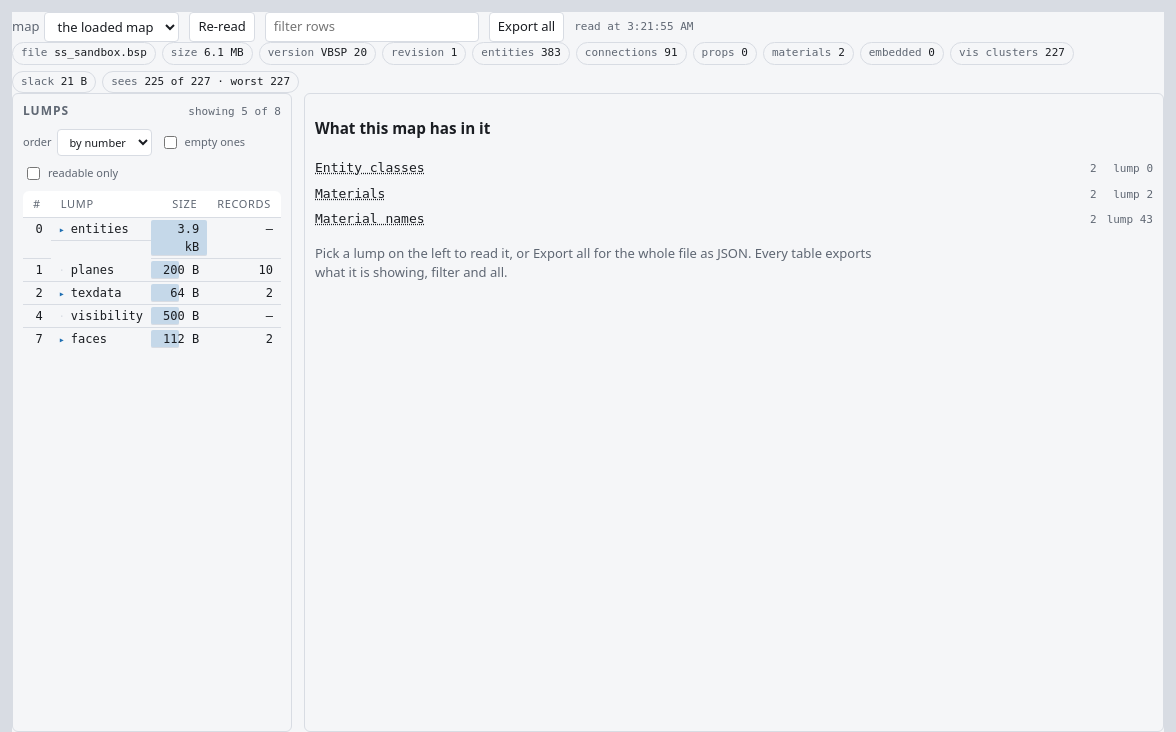
reading a big lump › asks once, however often the lump is opened
Expected: the text "ss_sandbox.bsp" is shown, [54,46,147,59]
Click the row "7 faces 112 B 2". click: x=152, y=339
box: [23,328,281,350]
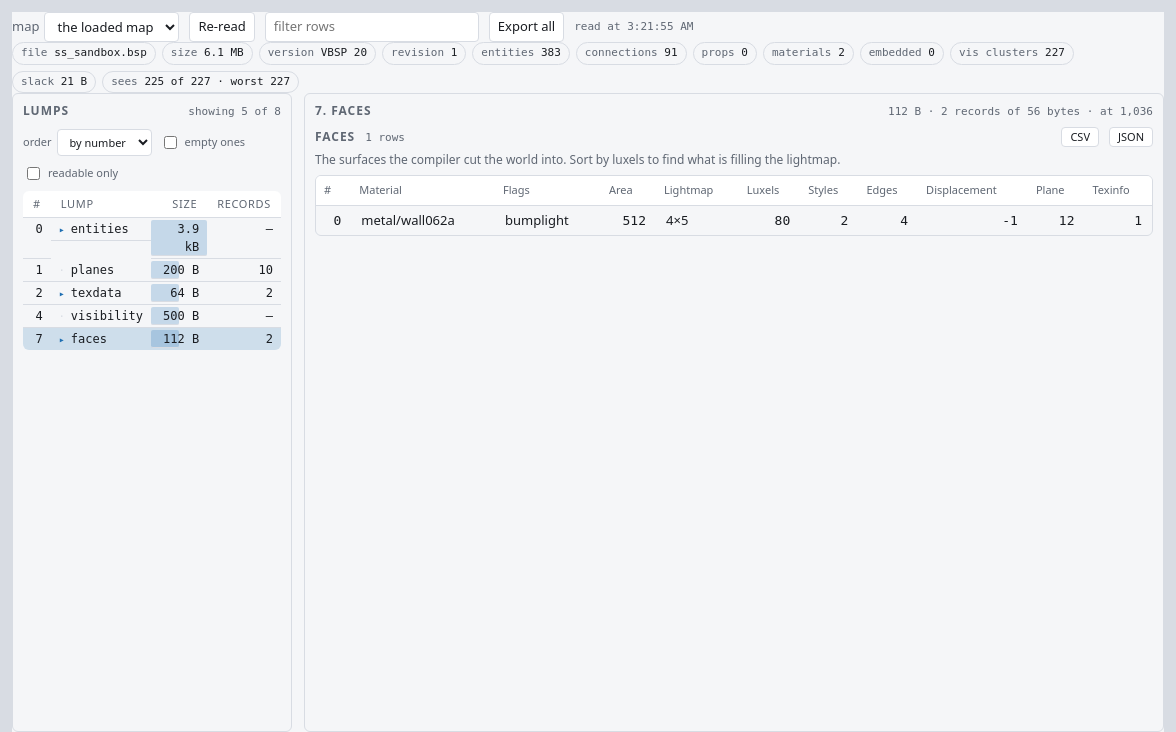
Now the text "metal/wall062a" is shown, box [351,205,495,235]
Click the row "2 texdata 64 B 2". click: x=152, y=293
box: [23,282,281,304]
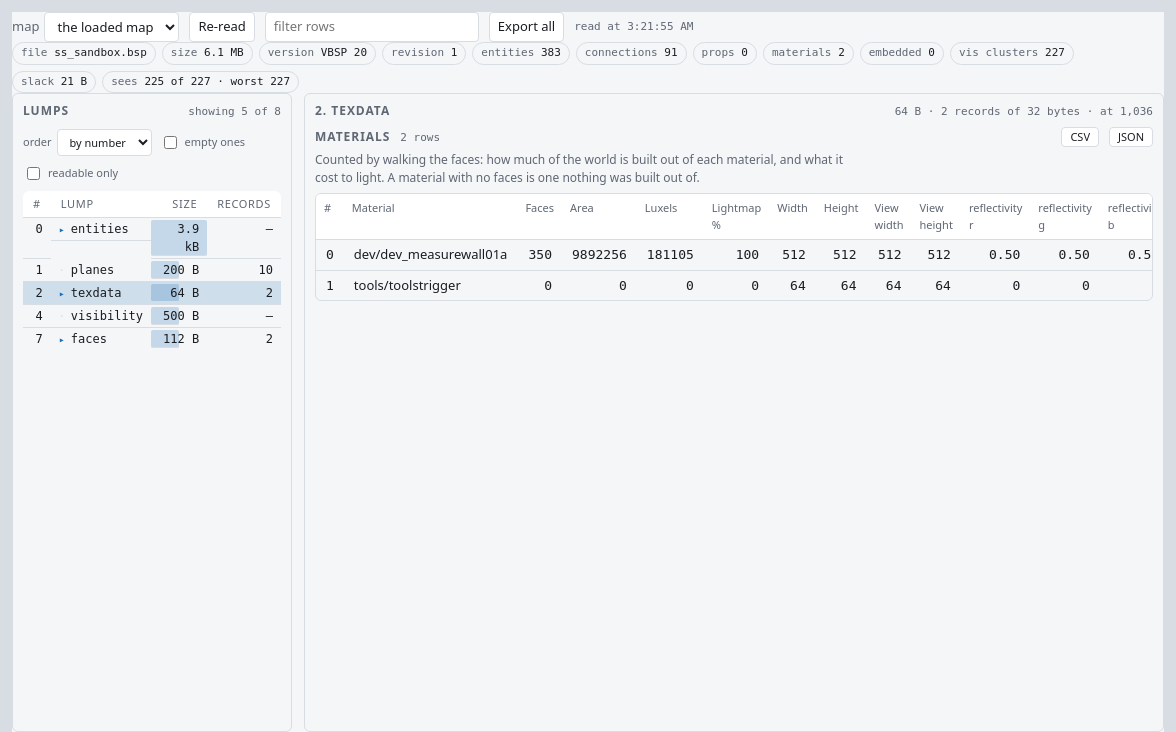
Click the row "7 faces 112 B 2". click: x=152, y=339
box: [23,328,281,350]
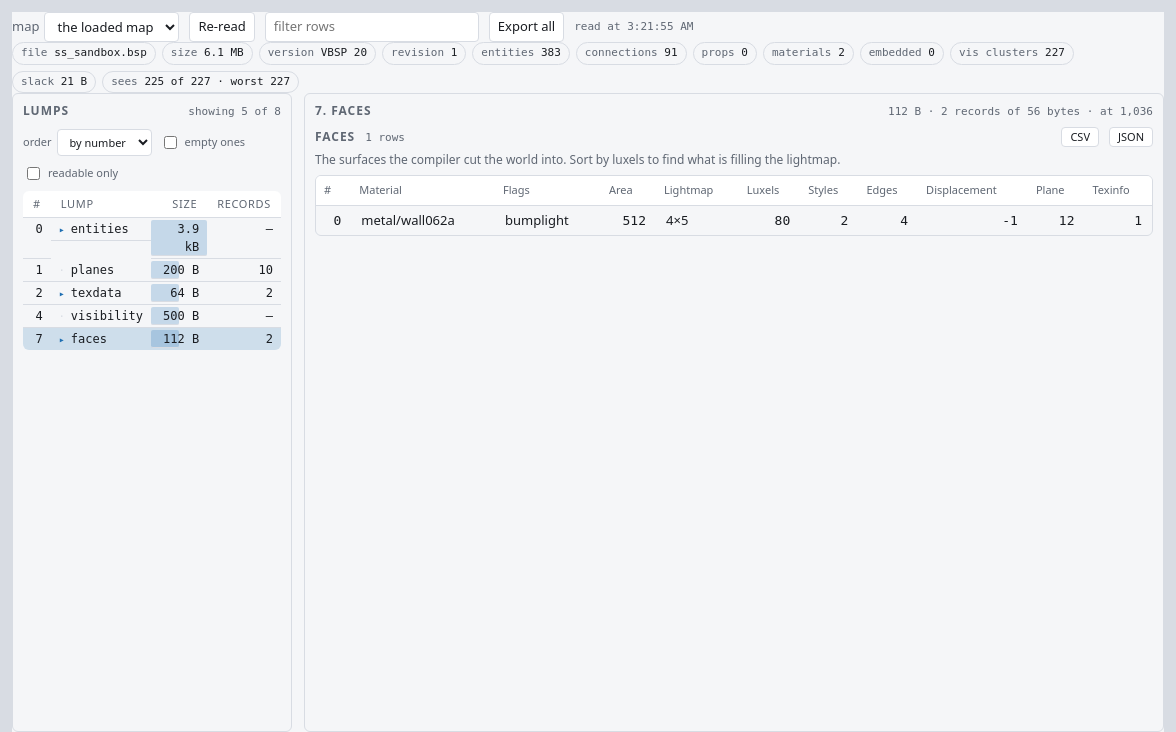
Now the text "metal/wall062a" is shown, box [351,205,495,235]
